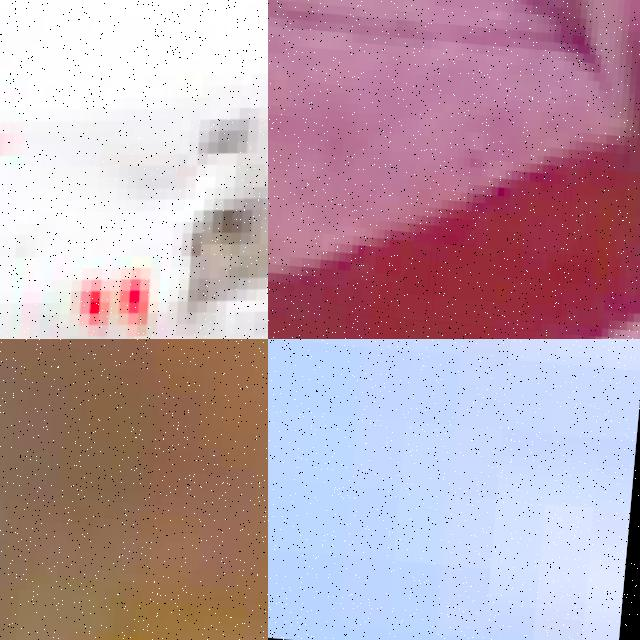drone: (0, 0, 268, 339)
